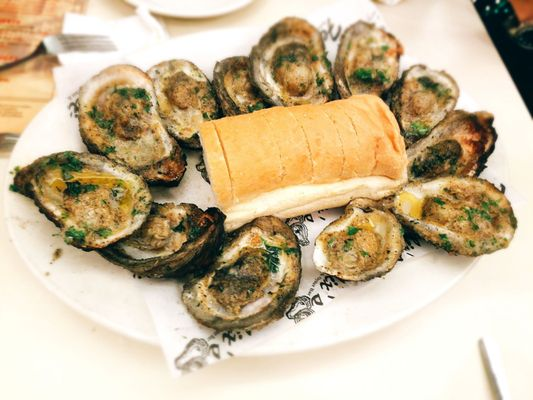soup: (197, 94, 409, 228), (75, 62, 188, 186)
